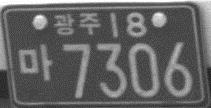0: (128, 41, 159, 98)
1: (109, 10, 120, 39)
3: (95, 41, 127, 100)
6: (162, 40, 194, 98)
7: (60, 42, 92, 99)
8: (125, 11, 147, 37)
광주_O: (53, 10, 101, 37)
마: (18, 42, 53, 82)
